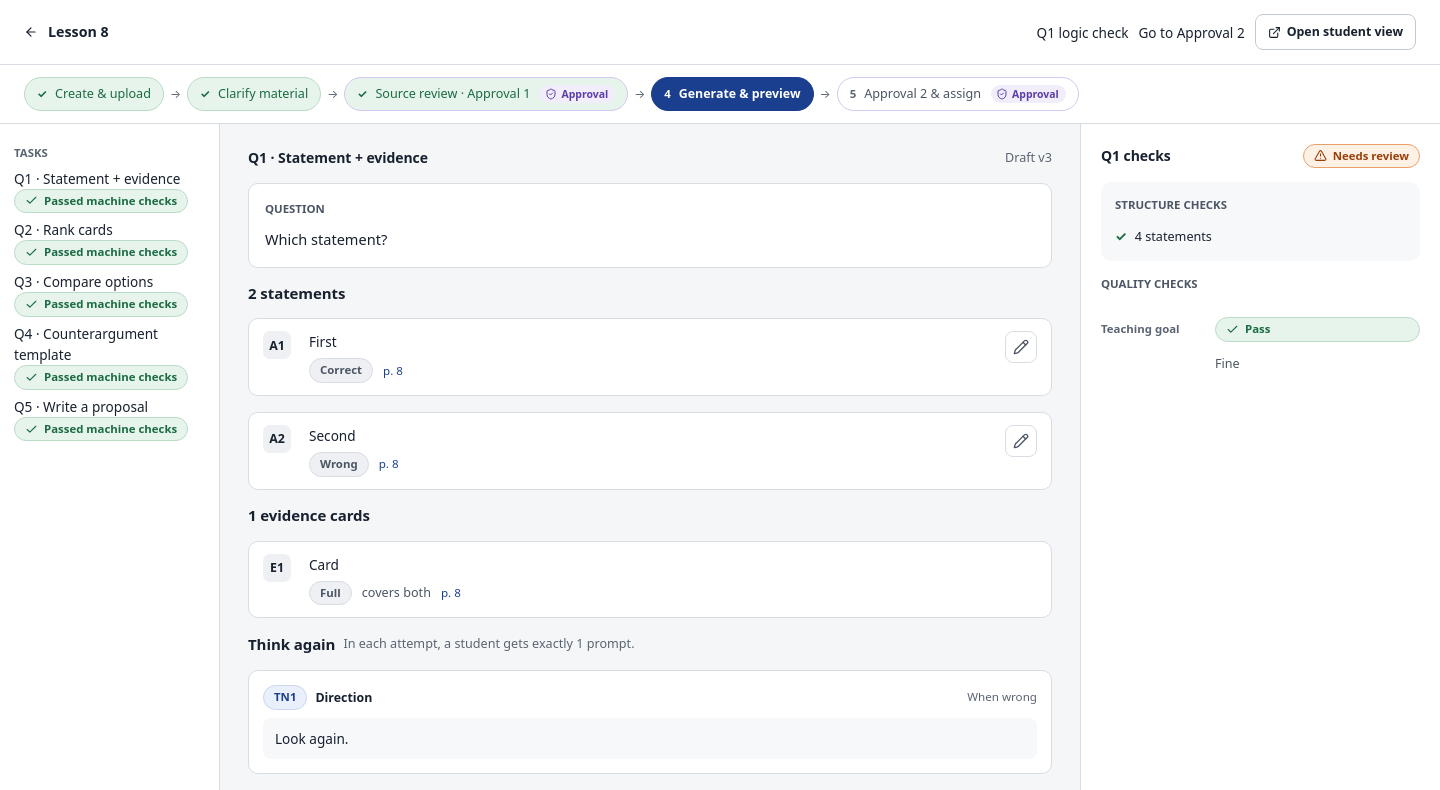
T7, T9 and T11 › a conflict says someone else saved first and offers to copy
Click the button named "Quick edit A1".
click(1021, 347)  # box [1005,331,1037,363]
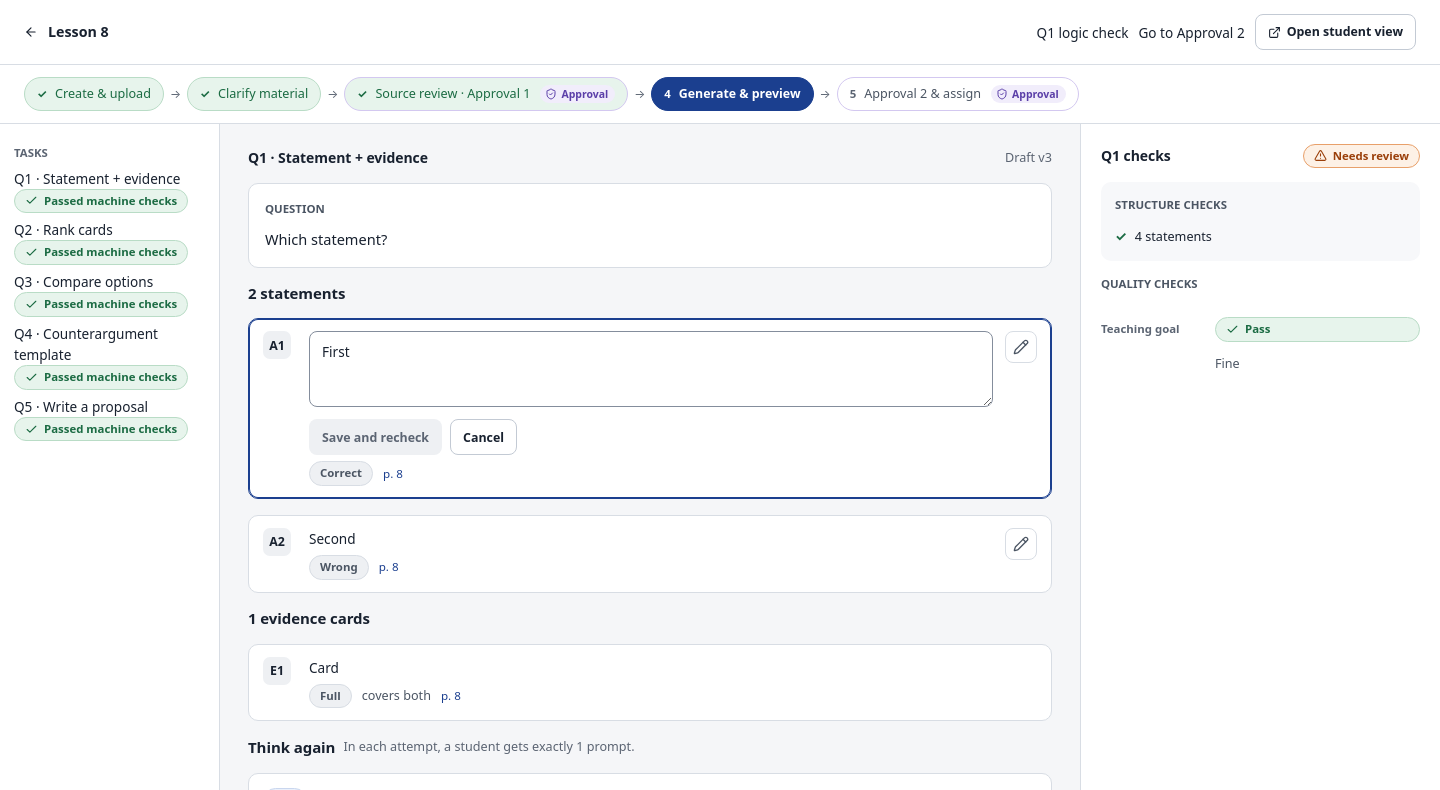
Replace the text in the text box named "Quick edit A1" with "New" at (651,369), box [309,331,993,407]
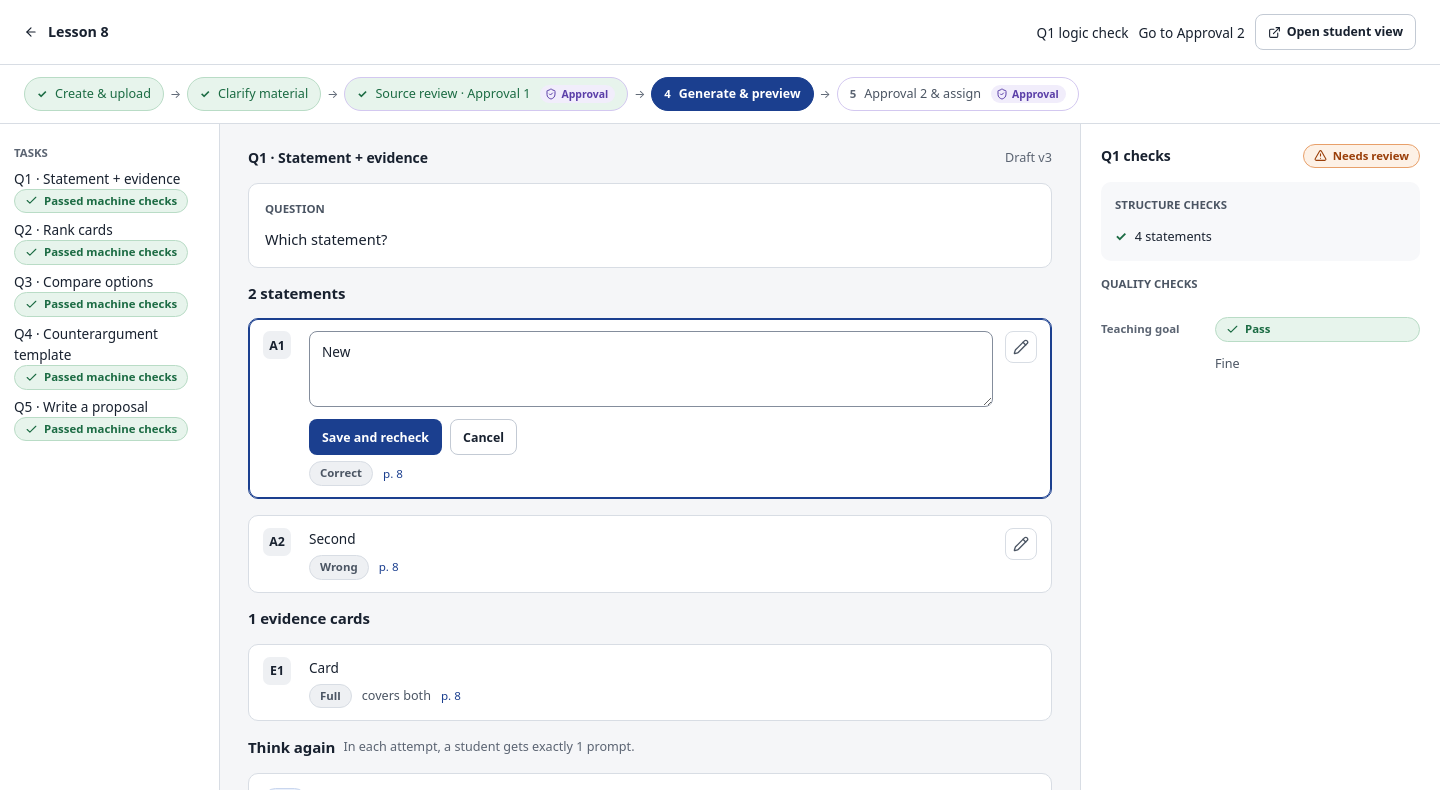
Click the button "Save and recheck".
click(376, 437)  # box [309,419,442,455]
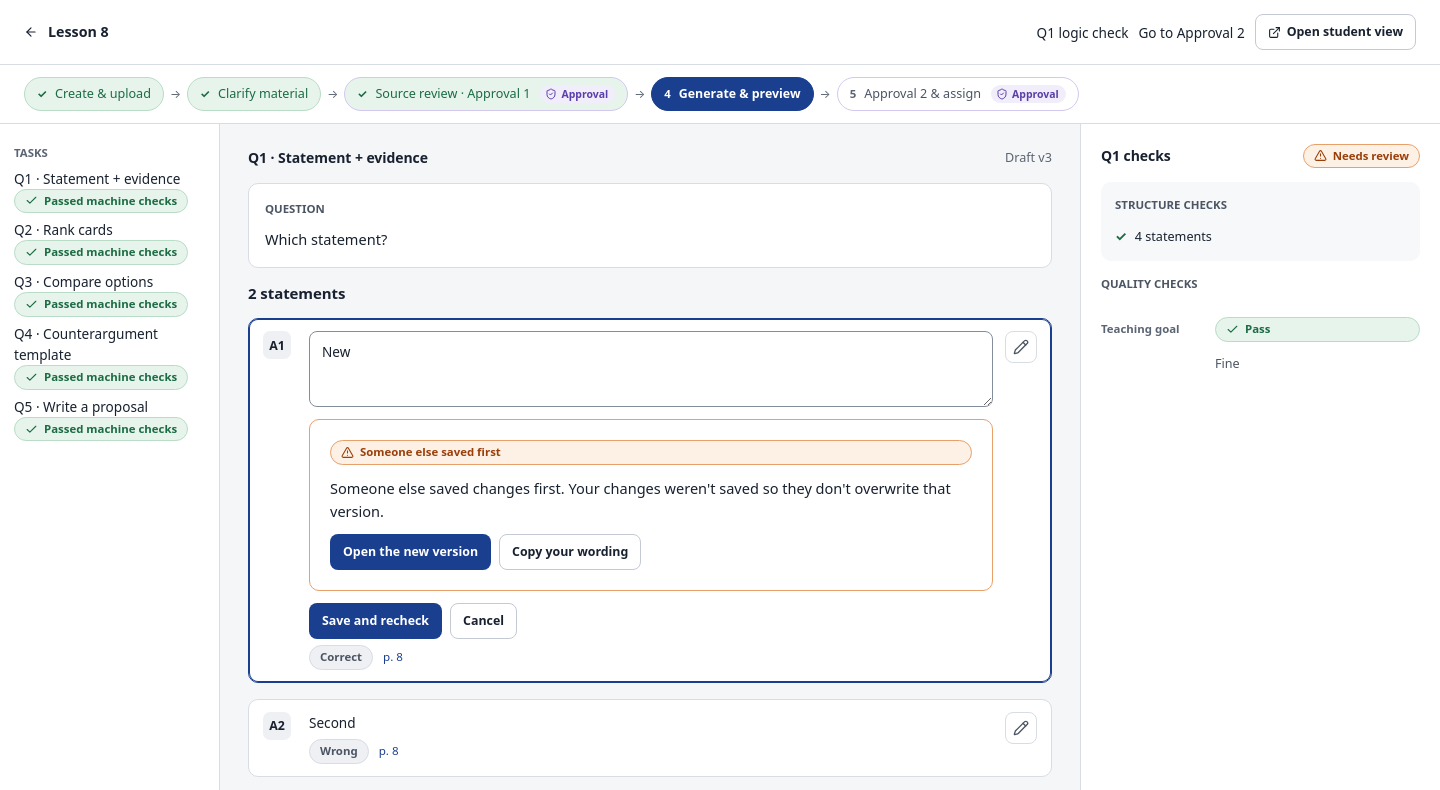
Expected: the text "Someone else saved first" is shown, [330,440,972,465]
Expected: the button "Copy your wording" is shown, [499,534,641,570]
